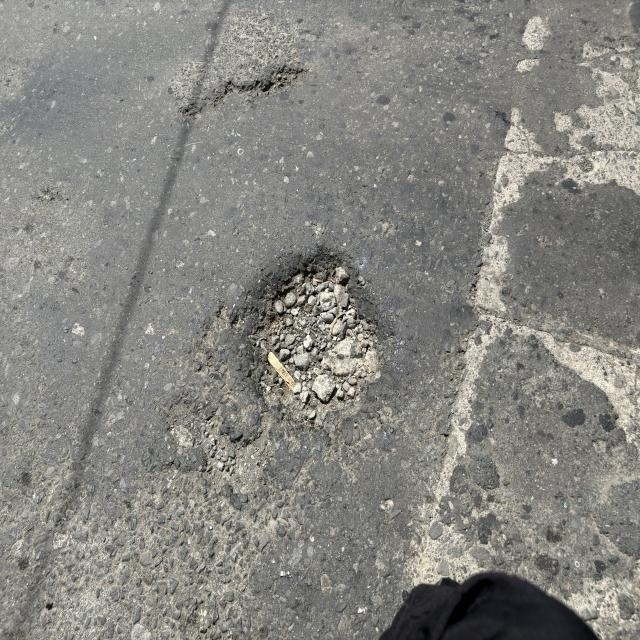pothole: (204, 240, 404, 434)
